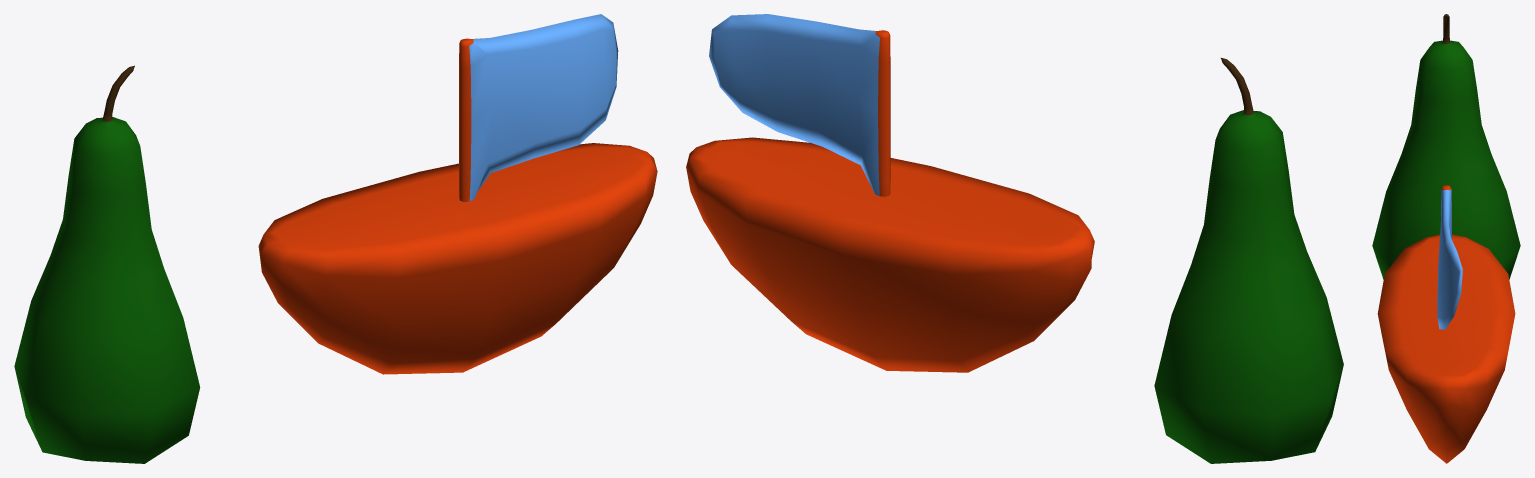
3 renders of one model, left to right at view 1: azimuth 30°, elevation 25°; view 2: azimuth 150°, elevation 25°; view 3: azimuth 270°, elevation 25°, orthographic. The views are drawn at different scales.
Visible parts, largest first — view 1: boat, pear; view 2: boat, pear; view 3: boat, pear.
Part boxes in pixels (bbox=[...]): boat: bbox=[258, 14, 657, 374]; pear: bbox=[14, 65, 200, 463]; boat: bbox=[686, 14, 1094, 372]; pear: bbox=[1154, 58, 1343, 463]; boat: bbox=[1377, 185, 1515, 463]; pear: bbox=[1372, 14, 1520, 279].
Bounding box in the file's own units: 7.09 × 4.17 × 1.83.
1 material, 1 textured.
